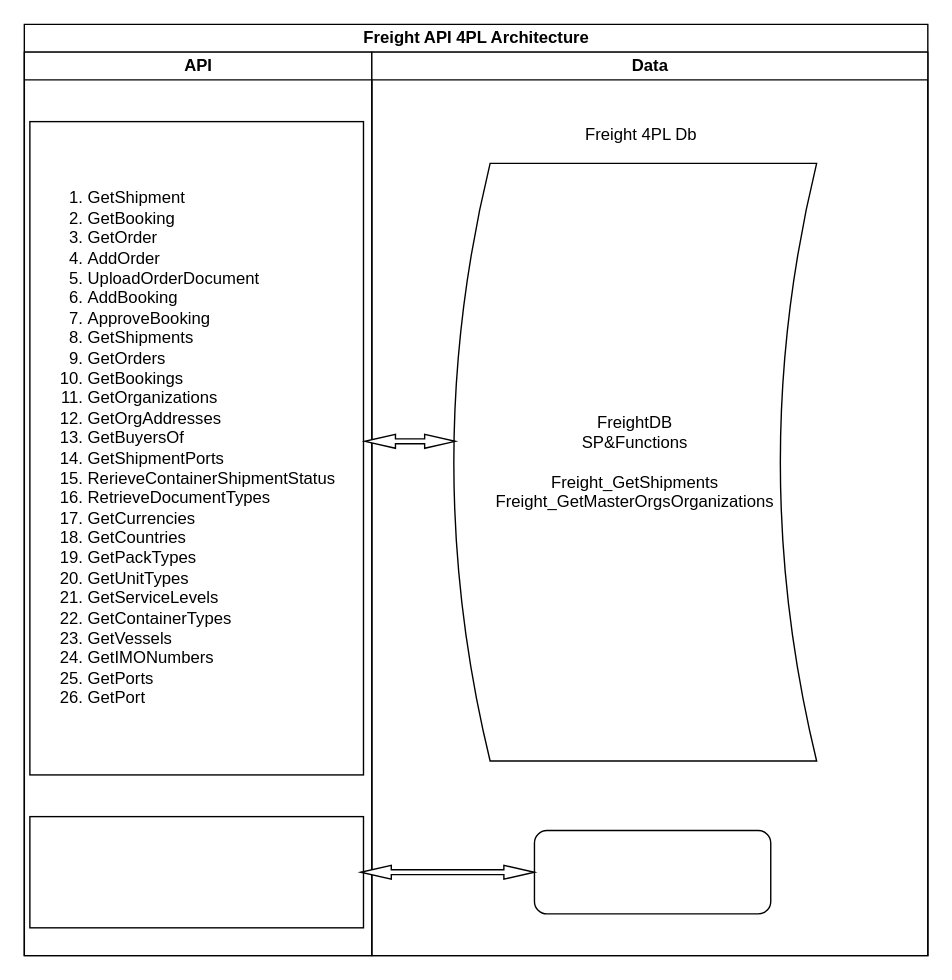
This 952x980 diagram has some shape labels left out. The shapes that lost their labels are listed below. From the top down, each one's centre as x and y in pixels, then its label:
the point at 195,871: GetShipGeoLoc GetAirlineGeoLoc
the point at 652,871: Marine Tracker API
